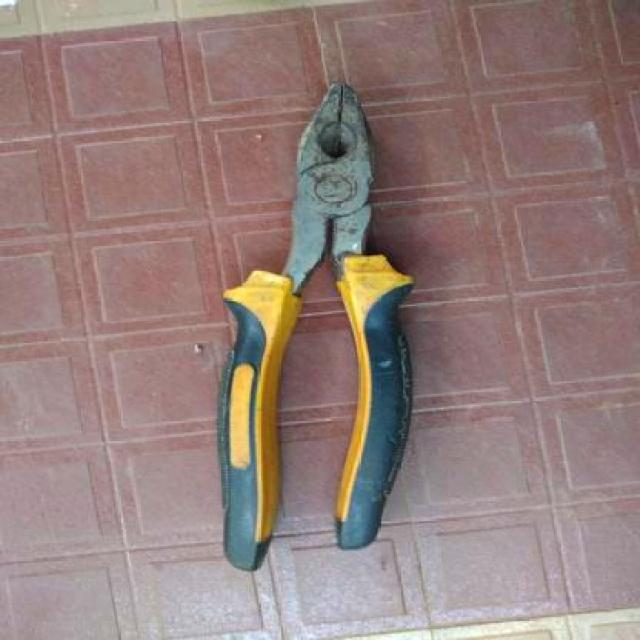pliers: (216, 93, 416, 581)
